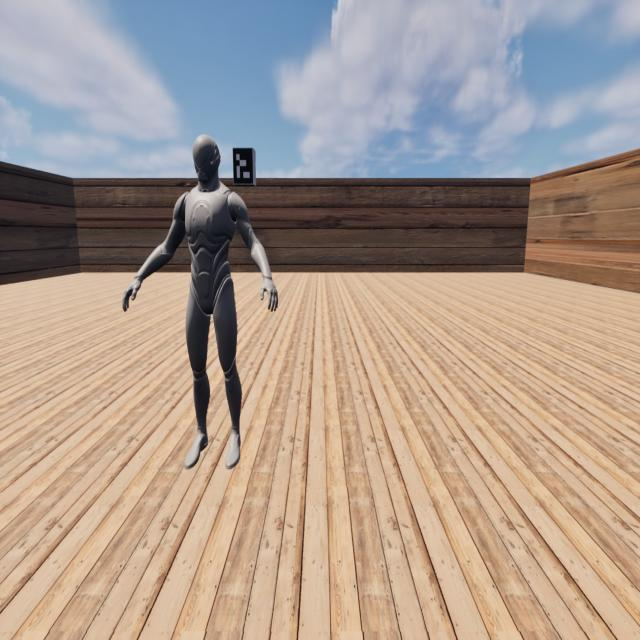aruco: (233, 147, 254, 185)
hip: (189, 277, 234, 293)
